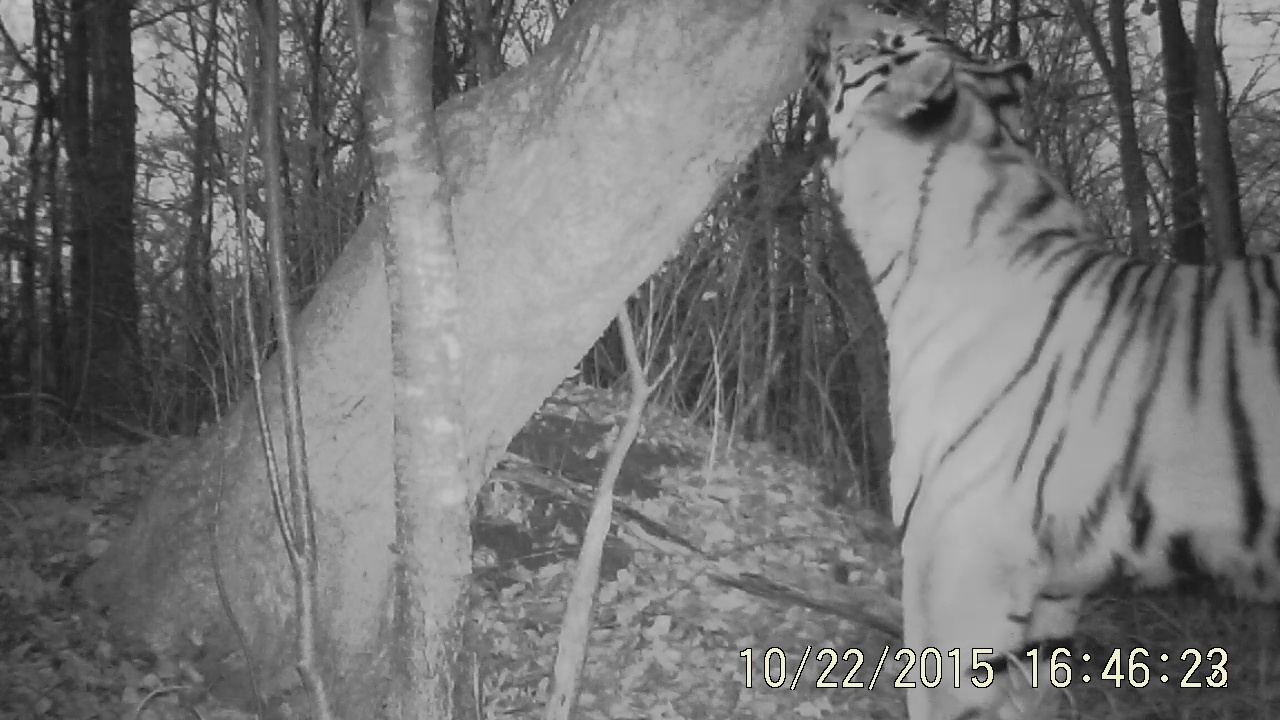Tiger: (796, 12, 1280, 625)
